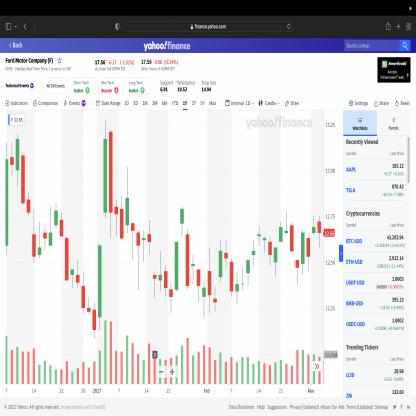Bearish: 3 Black Crows: (20, 150, 37, 266)
Bearish: Kicker: (180, 205, 190, 293)
